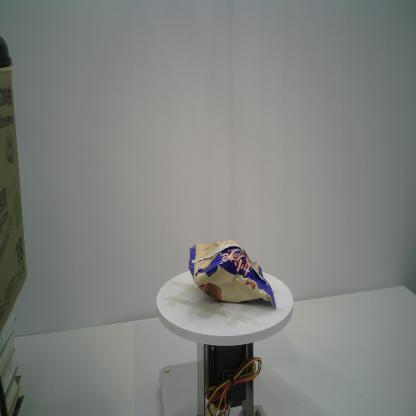Dessert: (188, 238, 278, 311)
